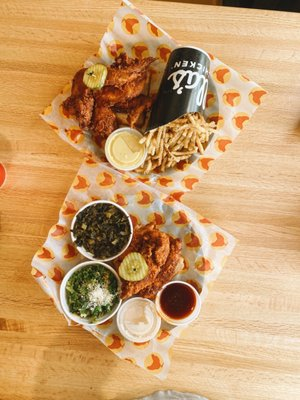sushi: (59, 260, 122, 326), (70, 201, 133, 262)
